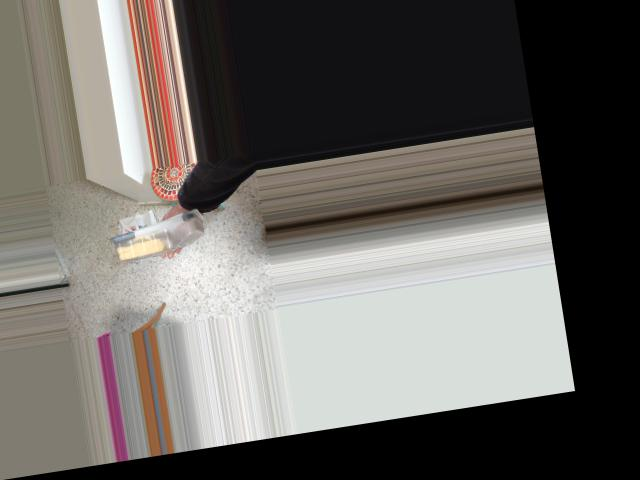cheese: (109, 209, 205, 264)
